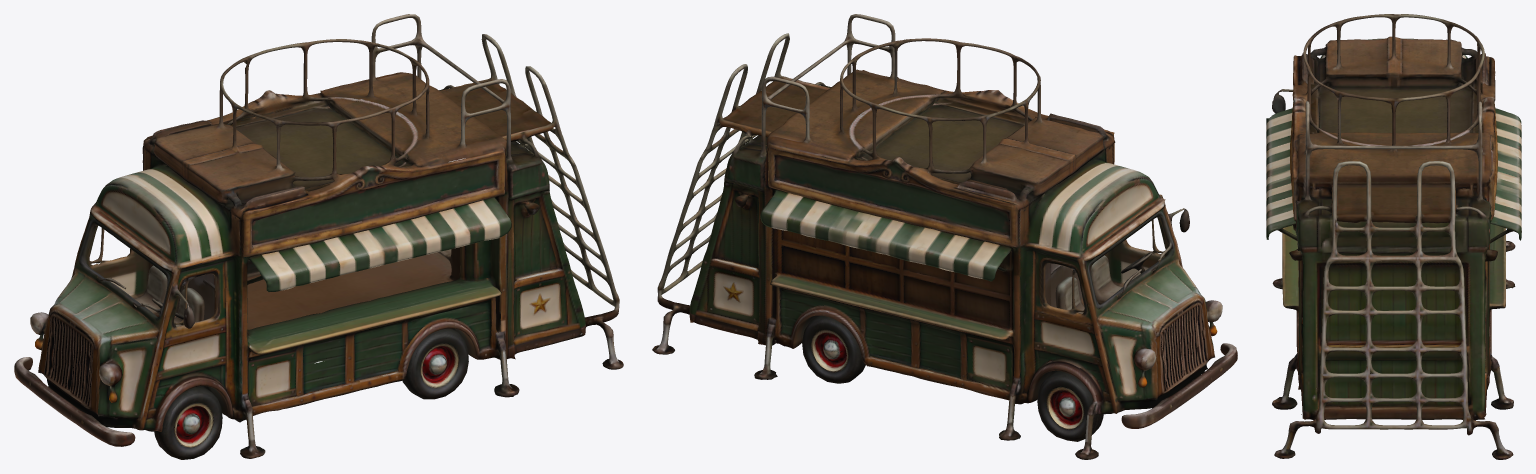
The picture shows the model from 3 angles, left to right: view 1: azimuth 30°, elevation 25°; view 2: azimuth 150°, elevation 25°; view 3: azimuth 270°, elevation 25°; orthographic projection. The views are drawn at different scales.
Visible parts, largest first — view 1: tripo_node_ff119787; view 2: tripo_node_ff119787; view 3: tripo_node_ff119787.
Part boxes in pixels (left/top/right/bottom): tripo_node_ff119787: left=14, top=14, right=623, bottom=459; tripo_node_ff119787: left=652, top=14, right=1237, bottom=459; tripo_node_ff119787: left=1266, top=14, right=1521, bottom=459.
Size of the model in its own units: 97.75 by 54.05 by 42.71.
1 material, 1 textured.
